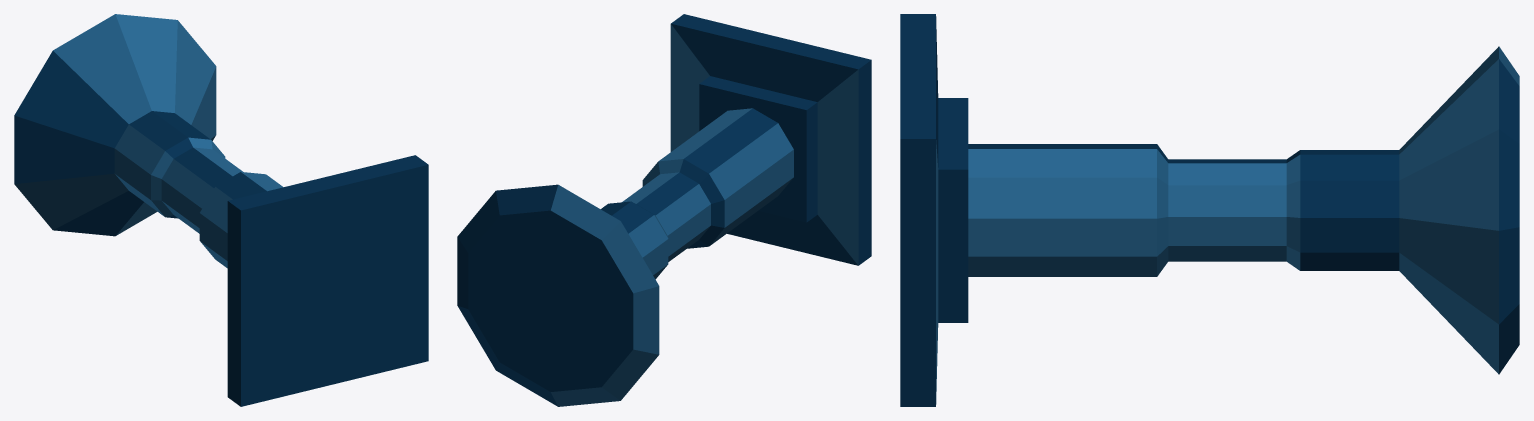
The model's file is winter_middle_campfire.fbx.
3 views of the same model, side by side, from view 1: azimuth 30°, elevation 25°; view 2: azimuth 150°, elevation 25°; view 3: azimuth 270°, elevation 25° (orthographic). The views are drawn at different scales.
Parts seen in each view (by area): view 1: winter_middle_campfire; view 2: winter_middle_campfire; view 3: winter_middle_campfire.
Boxes of the visible parts, box(x1,y1,x2,y2) form: winter_middle_campfire: box(14, 14, 428, 406); winter_middle_campfire: box(457, 14, 871, 406); winter_middle_campfire: box(900, 14, 1519, 406).
Size of the model in its own units: 47.66 by 50.11 by 92.76.
